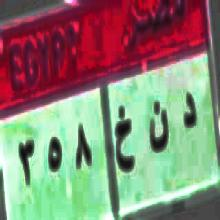3: (17, 133, 36, 192)
5: (44, 129, 64, 188)
8: (70, 122, 95, 181)
daal: (180, 88, 198, 134)
khaa: (114, 99, 136, 178)
noon: (145, 95, 171, 165)
